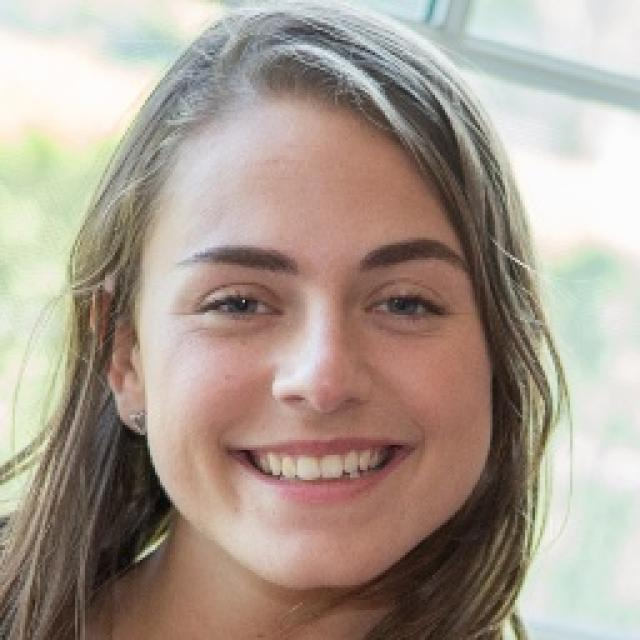earlobe: (85, 276, 151, 435)
